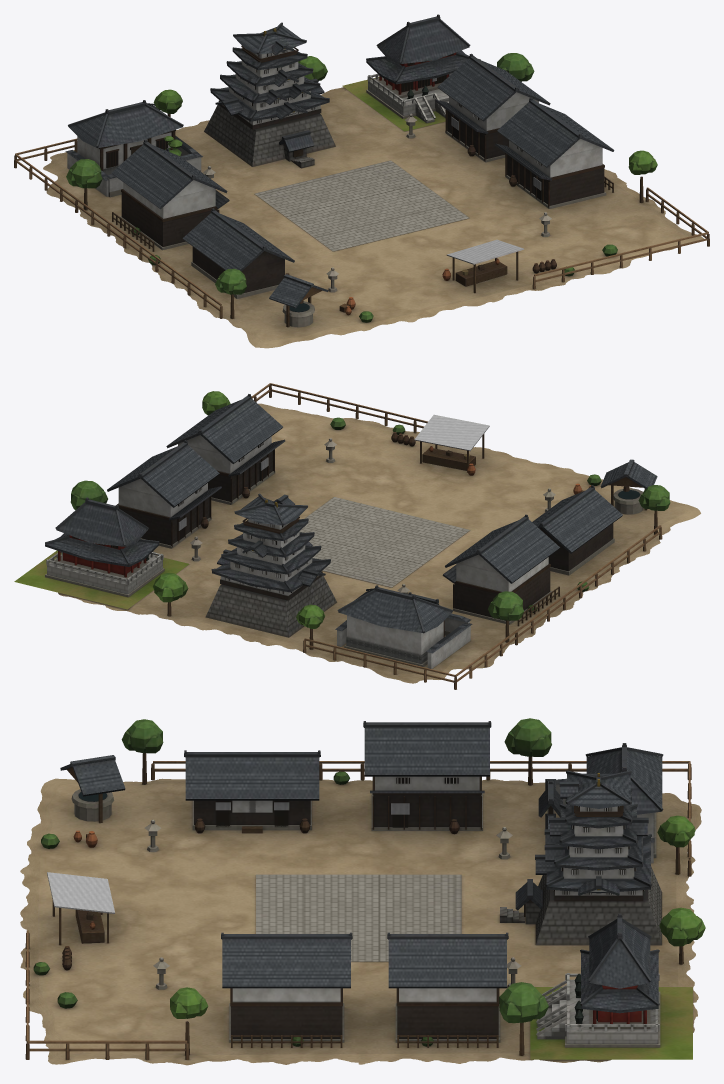
The model's file is gunpowder-town-small-b-japan.glb.
3 views of the same model, one above another, from view 1: azimuth 30°, elevation 25°; view 2: azimuth 150°, elevation 25°; view 3: azimuth 270°, elevation 25° (orthographic). The views are drawn at different scales.
Parts seen in each view (by area): view 1: LOD0; view 2: LOD0; view 3: LOD0.
Part boxes in pixels (left/top/right/bottom): LOD0: left=14, top=14, right=709, bottom=348; LOD0: left=14, top=383, right=700, bottom=689; LOD0: left=20, top=718, right=705, bottom=1065.
Size of what is drawn, in the model's own units: 4.02 by 0.9452 by 4.06.
3 materials, 3 textured.
